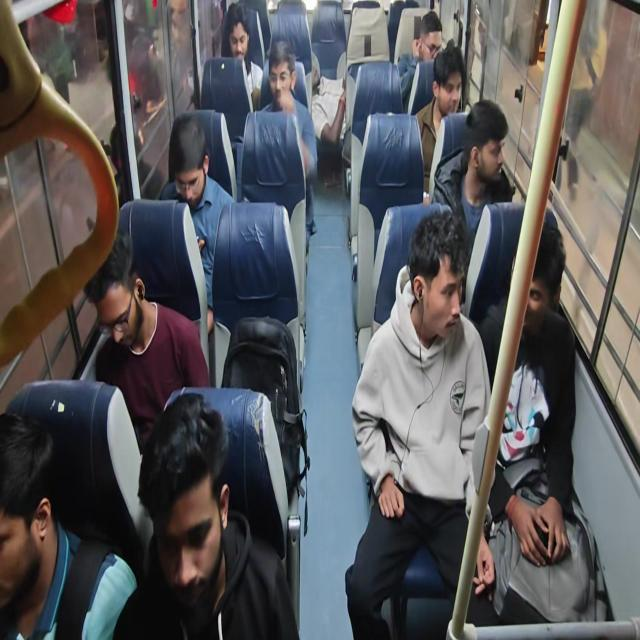person: (144, 437, 233, 624), (0, 429, 50, 588), (88, 266, 156, 342), (416, 255, 462, 331), (512, 246, 556, 324), (173, 96, 199, 219), (267, 55, 295, 106), (436, 66, 464, 111), (471, 118, 492, 176), (219, 19, 247, 57), (419, 17, 438, 52)
